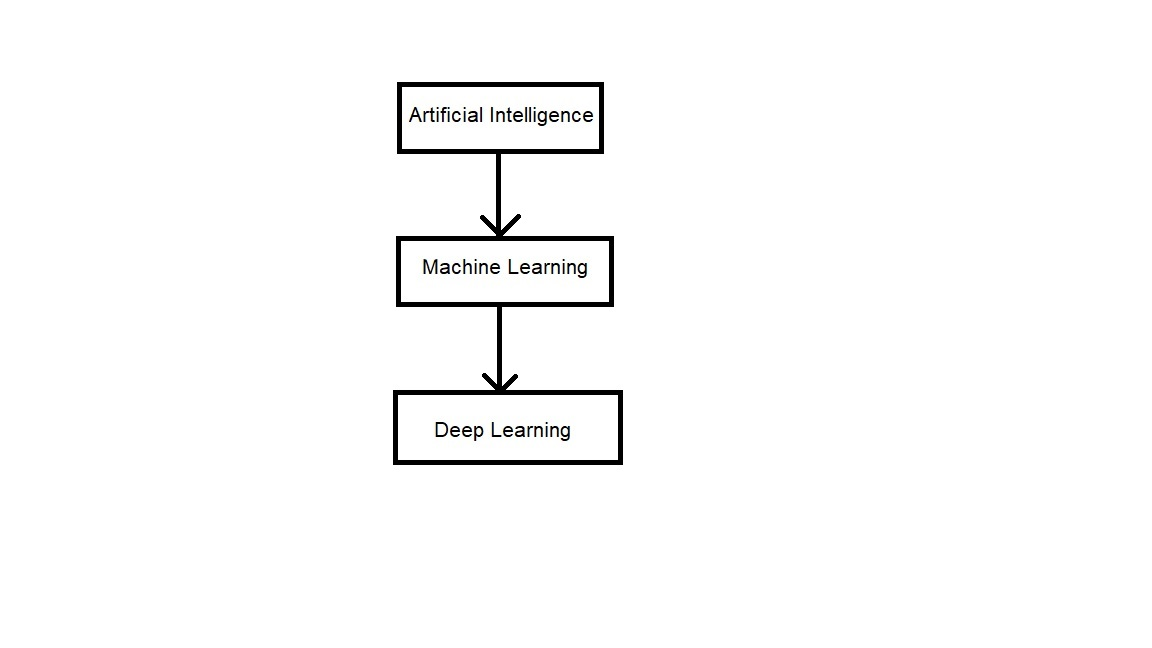arrow: (476, 145, 522, 244), (479, 302, 521, 394)
process: (389, 385, 628, 468), (391, 233, 619, 310), (392, 78, 610, 158)
text: (418, 252, 591, 283), (404, 104, 596, 127), (428, 418, 574, 444)
